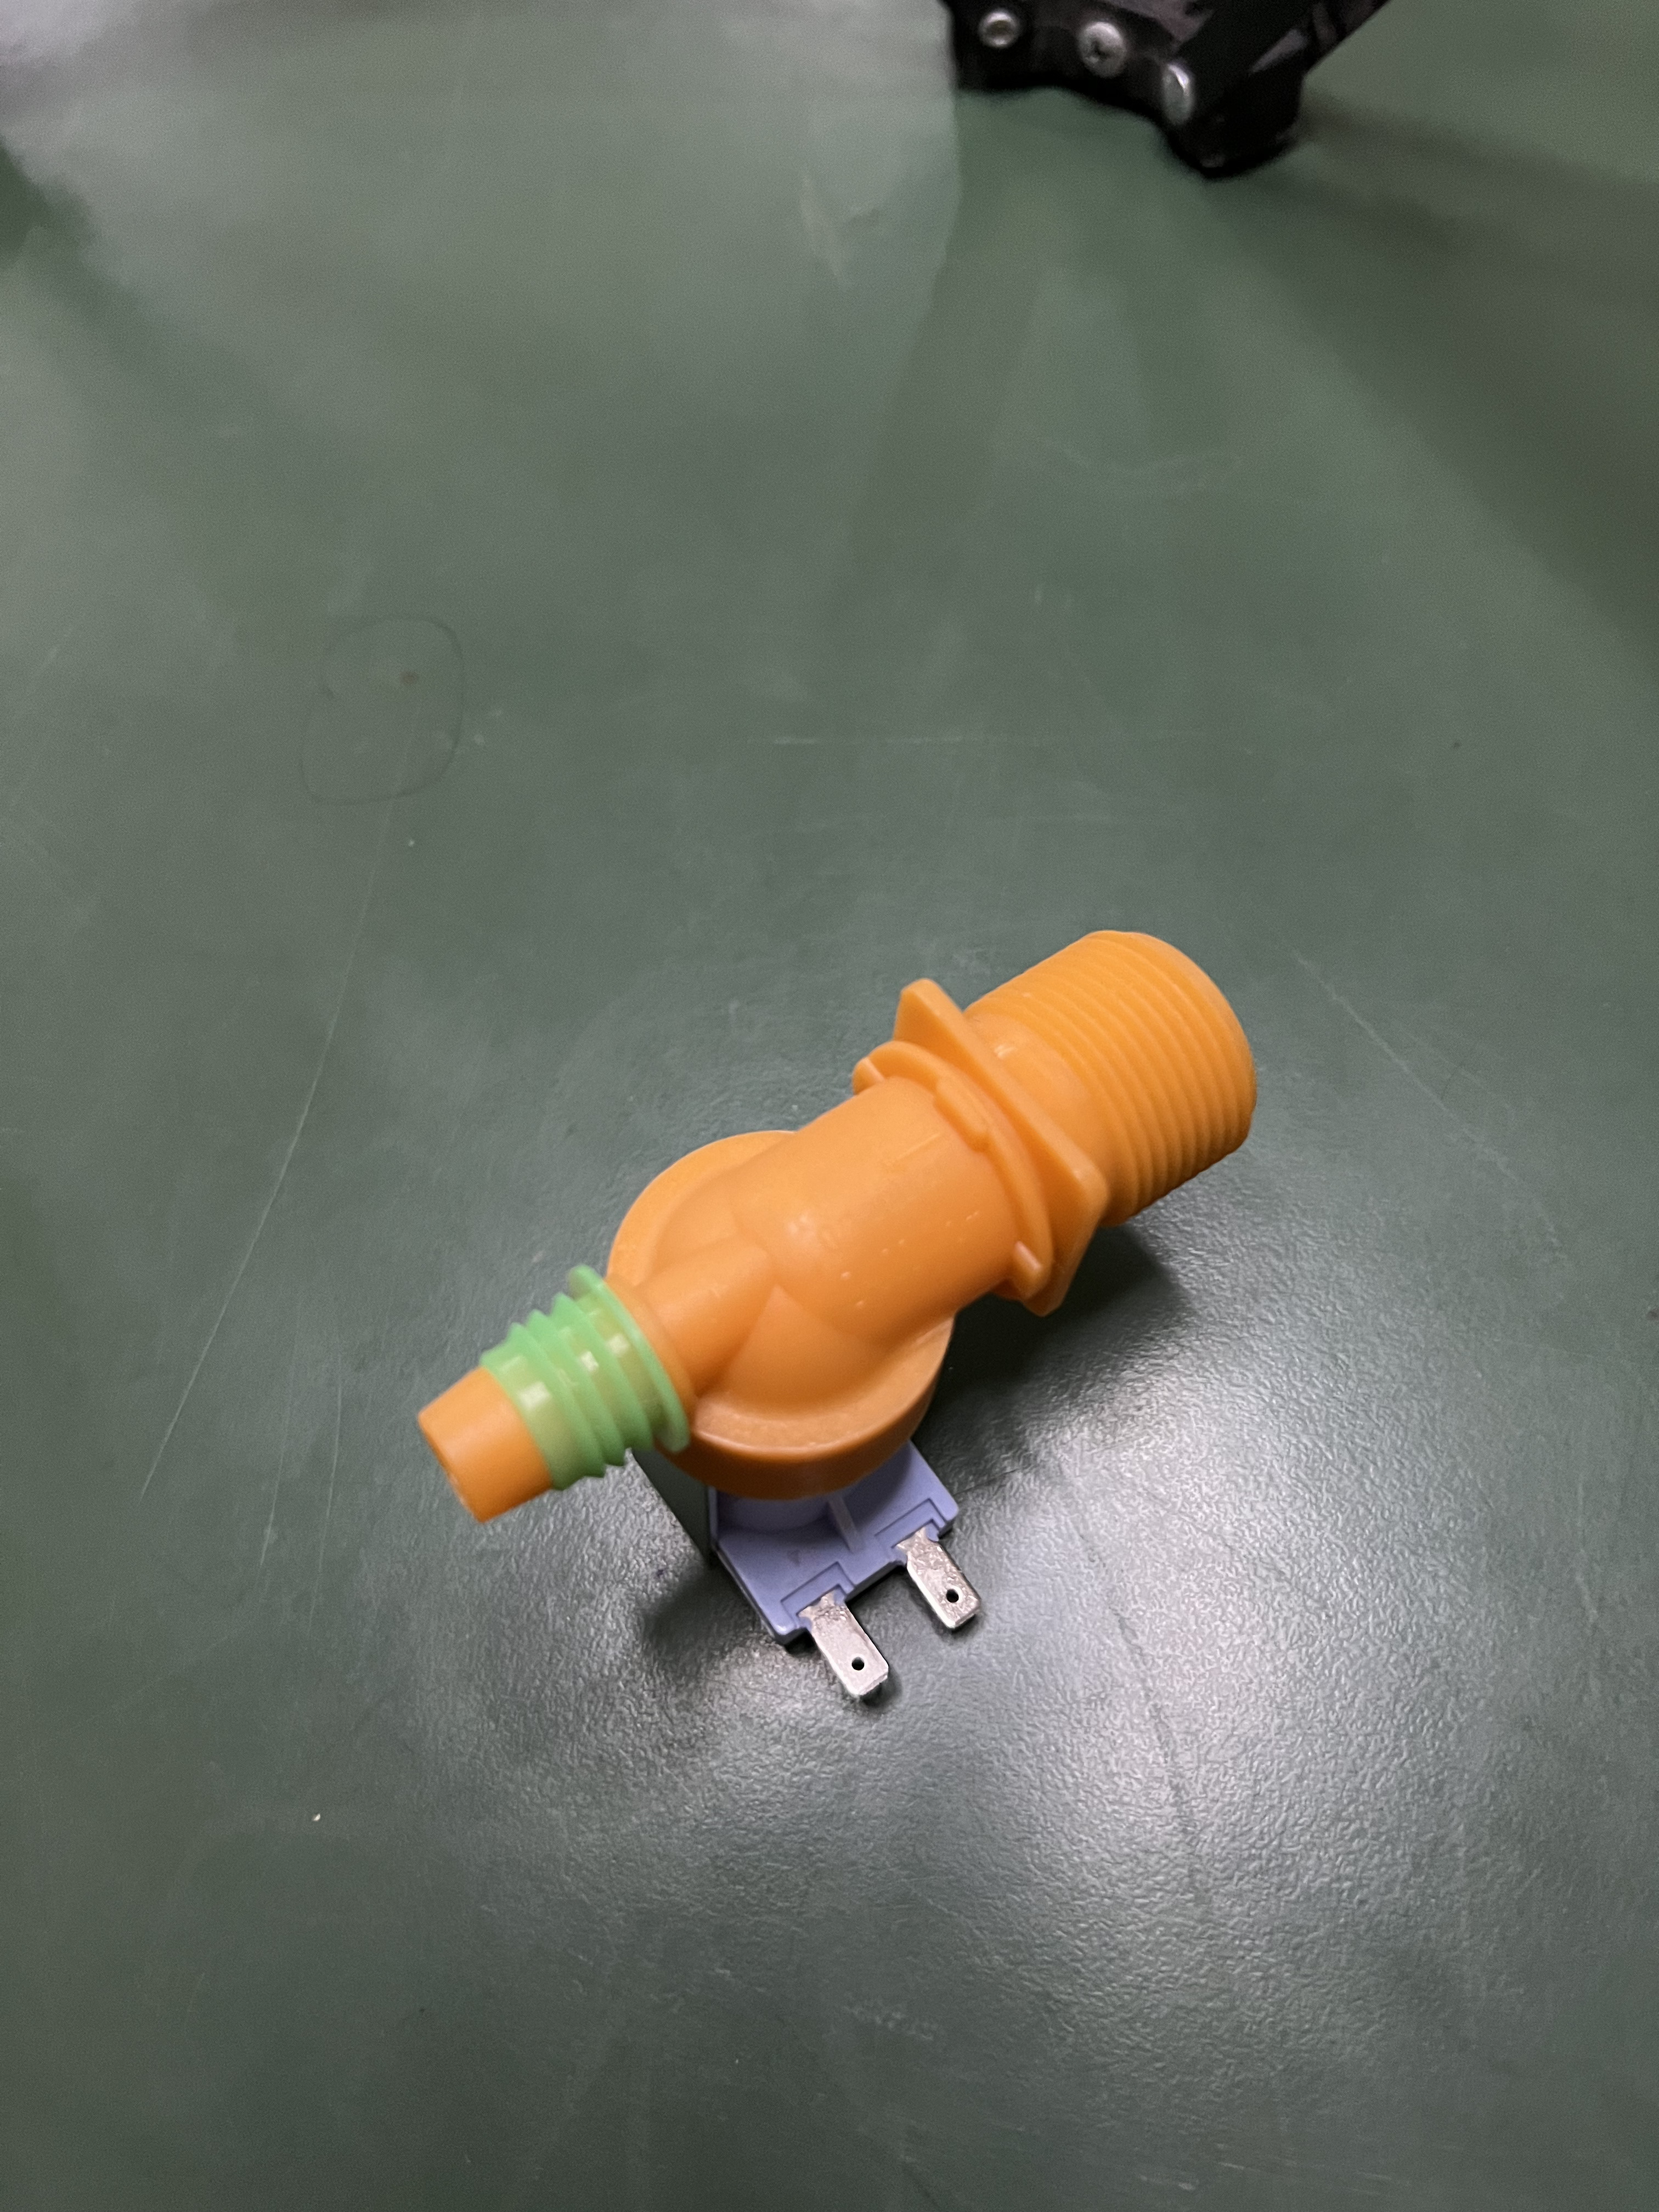ss_inlet_valves: (446, 906, 1263, 1752)
